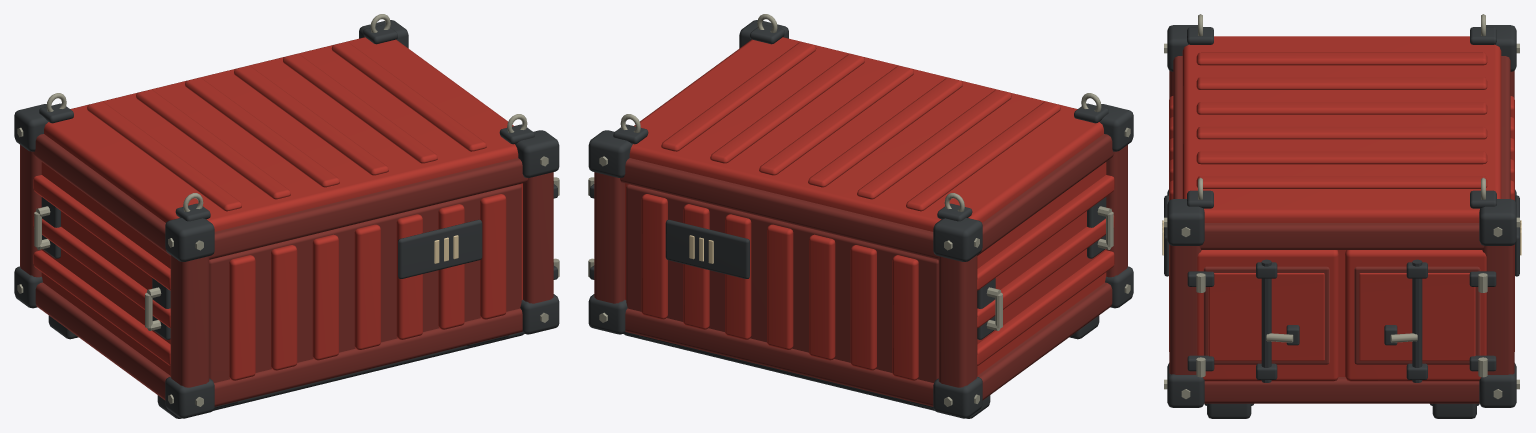
The model's file is SM_SupplyDrop_Container.fbx.
3 renders of one model, left to right at view 1: azimuth 30°, elevation 25°; view 2: azimuth 150°, elevation 25°; view 3: azimuth 270°, elevation 25°, orthographic. The views are drawn at different scales.
Visible parts, largest first — view 1: SM_SupplyDrop_Container; view 2: SM_SupplyDrop_Container; view 3: SM_SupplyDrop_Container.
Part boxes in pixels (left/top/right/bottom): SM_SupplyDrop_Container: left=14, top=14, right=559, bottom=418; SM_SupplyDrop_Container: left=588, top=14, right=1133, bottom=418; SM_SupplyDrop_Container: left=1162, top=14, right=1521, bottom=418.
Size of what is drawn, in the model's own units: 1.45 by 1.09 by 0.786.
